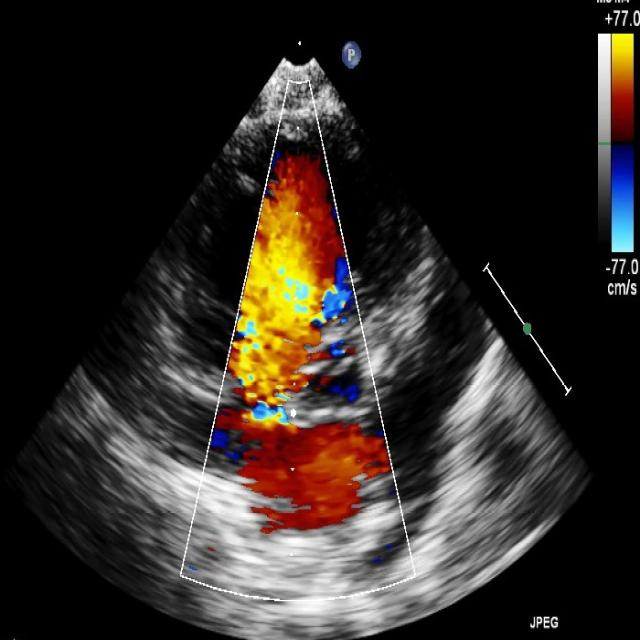ASDType2: (212, 421, 386, 501)
VSDType2: (230, 269, 330, 395)
